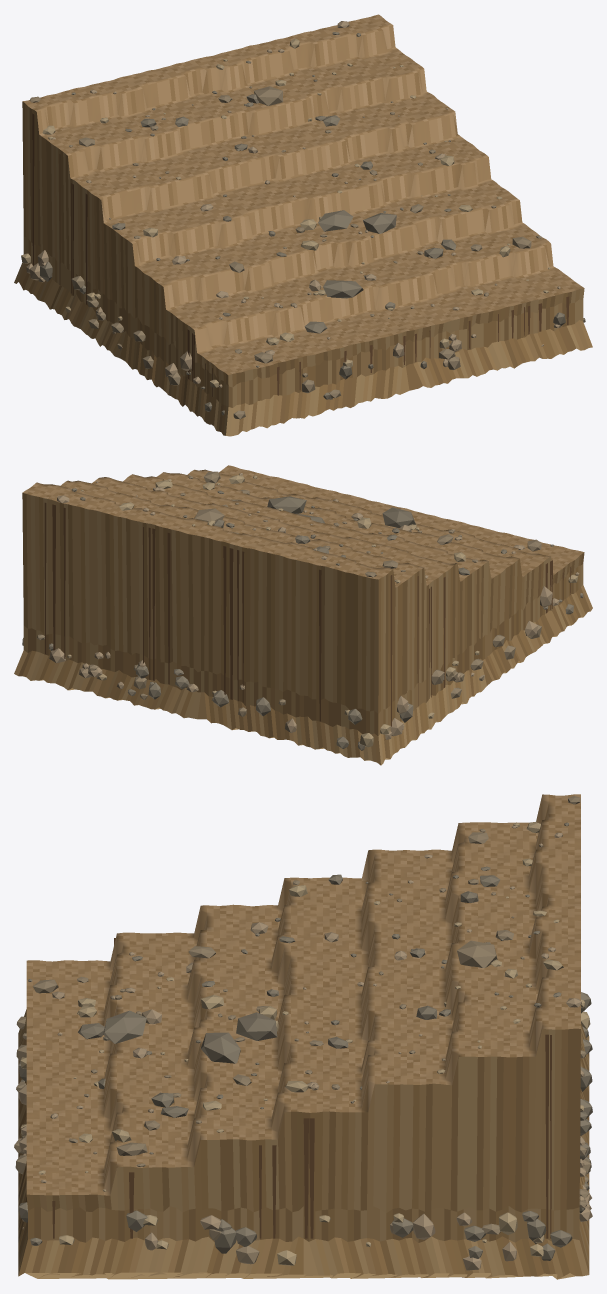
The model's file is 03_阶梯式黄土地形.glb.
3 renders of one model, top to bottom at view 1: azimuth 30°, elevation 25°; view 2: azimuth 150°, elevation 25°; view 3: azimuth 270°, elevation 25°, orthographic. The views are drawn at different scales.
Parts seen in each view (by area): view 1: 地表_可编辑网格, 土层剖面_闭合侧壁, 侧壁侵蚀细沟, 石砾_170, 石砾_150; view 2: 土层剖面_闭合侧壁, 地表_可编辑网格, 侧壁侵蚀细沟, 石砾_170, 石砾_044; view 3: 地表_可编辑网格, 土层剖面_闭合侧壁, 侧壁侵蚀细沟, 石砾_170, 石砾_044, 石砾_150, 石砾_182.
Part boxes in pixels (left/top/right/bottom): 地表_可编辑网格: left=23, top=14, right=584, bottom=374; 土层剖面_闭合侧壁: left=14, top=101, right=592, bottom=436; 侧壁侵蚀细沟: left=32, top=113, right=569, bottom=396; 石砾_170: left=323, top=280, right=363, bottom=298; 石砾_150: left=318, top=210, right=353, bottom=231; 土层剖面_闭合侧壁: left=14, top=493, right=592, bottom=765; 地表_可编辑网格: left=22, top=465, right=583, bottom=587; 侧壁侵蚀细沟: left=44, top=502, right=571, bottom=726; 石砾_170: left=382, top=507, right=415, bottom=527; 石砾_044: left=267, top=496, right=306, bottom=513; 地表_可编辑网格: left=26, top=794, right=580, bottom=1195; 土层剖面_闭合侧壁: left=18, top=1009, right=589, bottom=1279; 侧壁侵蚀细沟: left=52, top=938, right=551, bottom=1238; 石砾_170: left=103, top=1010, right=146, bottom=1043; 石砾_044: left=201, top=1032, right=240, bottom=1063; 石砾_150: left=236, top=1012, right=277, bottom=1040; 石砾_182: left=457, top=940, right=497, bottom=967.
Size of the model in its own units: 5.23 by 2.52 by 5.22.
